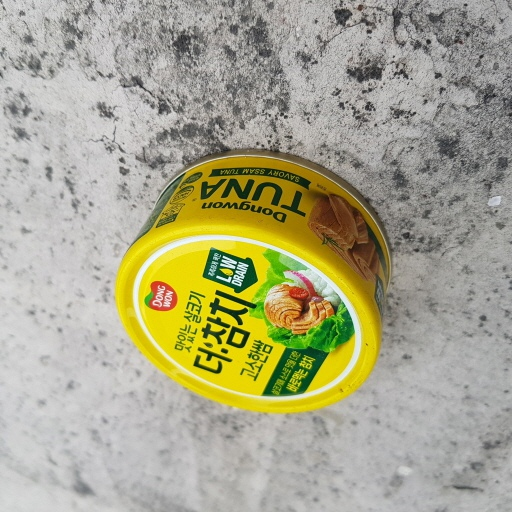Metal_1: (114, 149, 395, 419)
